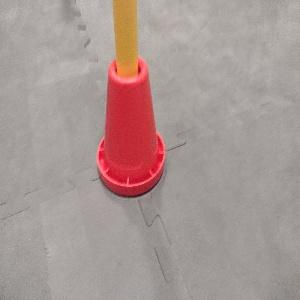Red_1: (93, 56, 165, 198)
